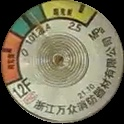green: (13, 6, 46, 38)
needle: (31, 11, 48, 36)
red: (1, 29, 27, 85)
yellow: (42, 1, 99, 27)
